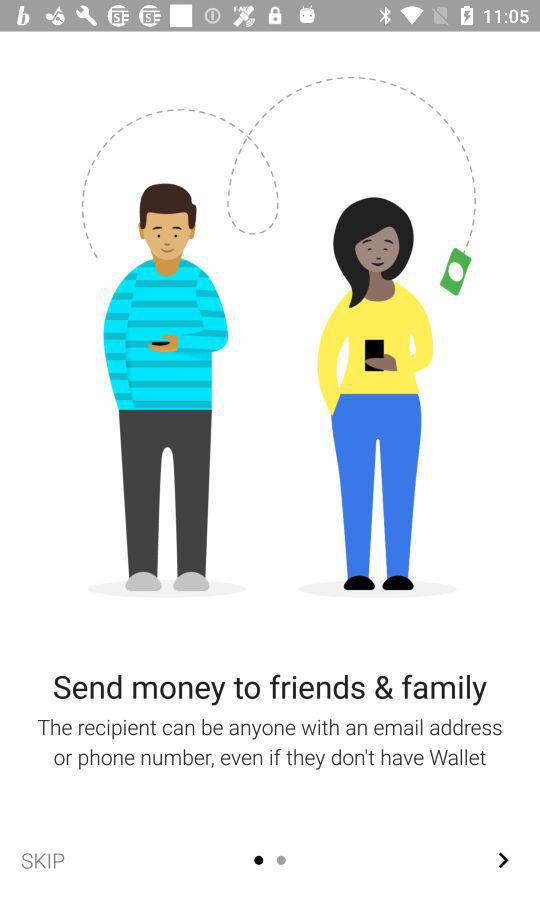Icon: (498, 851, 509, 869)
Image: (82, 76, 478, 599)
PageIndicator: (253, 855, 288, 866)
Text: (38, 718, 503, 771), (53, 673, 488, 707), (22, 851, 66, 871)
UpperTaskBar: (1, 1, 540, 33)
